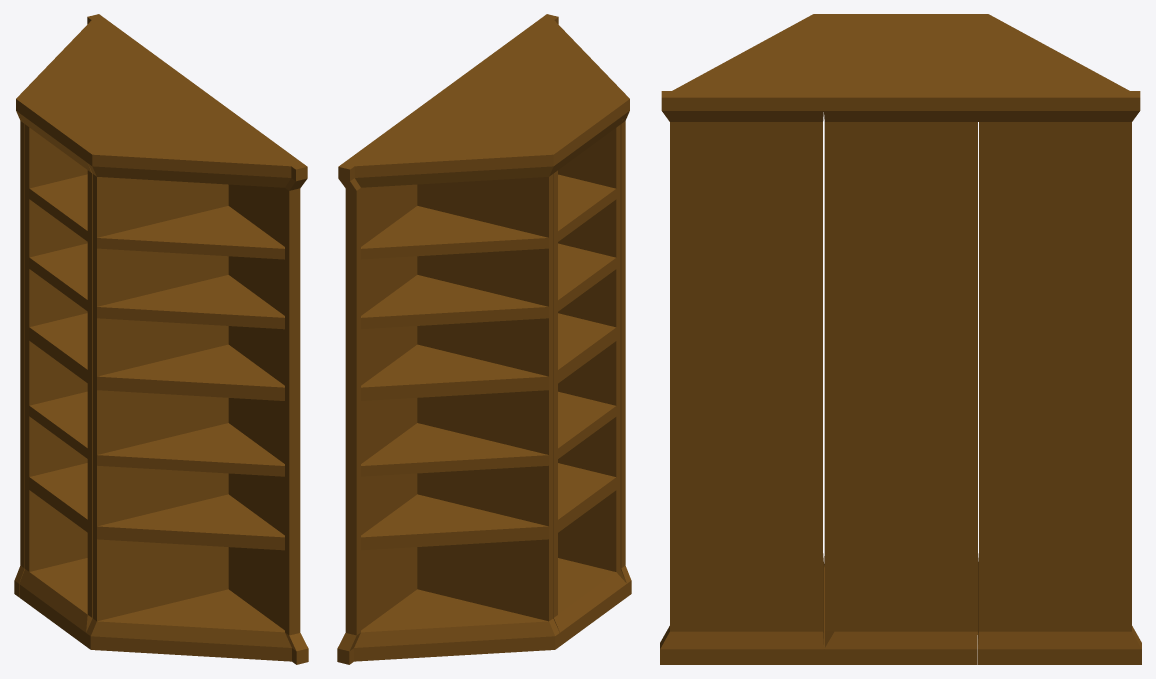
Rendered from Bookcase02.fbx.
The picture shows the model from 3 angles, left to right: view 1: azimuth 30°, elevation 25°; view 2: azimuth 150°, elevation 25°; view 3: azimuth 270°, elevation 25°; orthographic projection. The views are drawn at different scales.
Visible parts, largest first — view 1: Cube.026; view 2: Cube.026; view 3: Cube.026.
Boxes of the visible parts, left/top/right/bottom form: Cube.026: left=14, top=14, right=308, bottom=664; Cube.026: left=337, top=14, right=631, bottom=664; Cube.026: left=660, top=14, right=1141, bottom=664.
Size of the model in its own units: 71.61 by 224 by 173.
